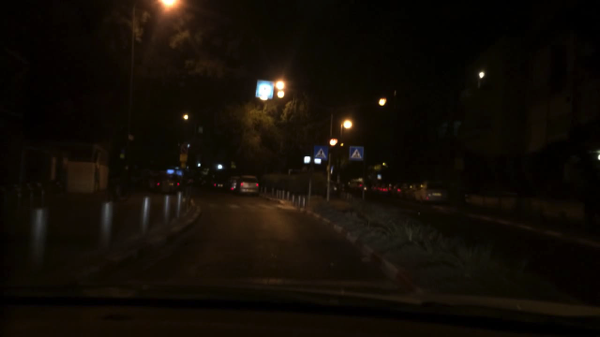car: (414, 182, 452, 204), (155, 175, 187, 195), (237, 176, 260, 197), (391, 181, 413, 200), (378, 180, 396, 195), (223, 177, 238, 191), (347, 177, 362, 191), (211, 178, 226, 189), (369, 181, 382, 191)
traffic sign: (253, 79, 274, 100), (348, 145, 362, 160), (315, 145, 326, 161), (181, 143, 188, 154), (179, 154, 188, 161)
